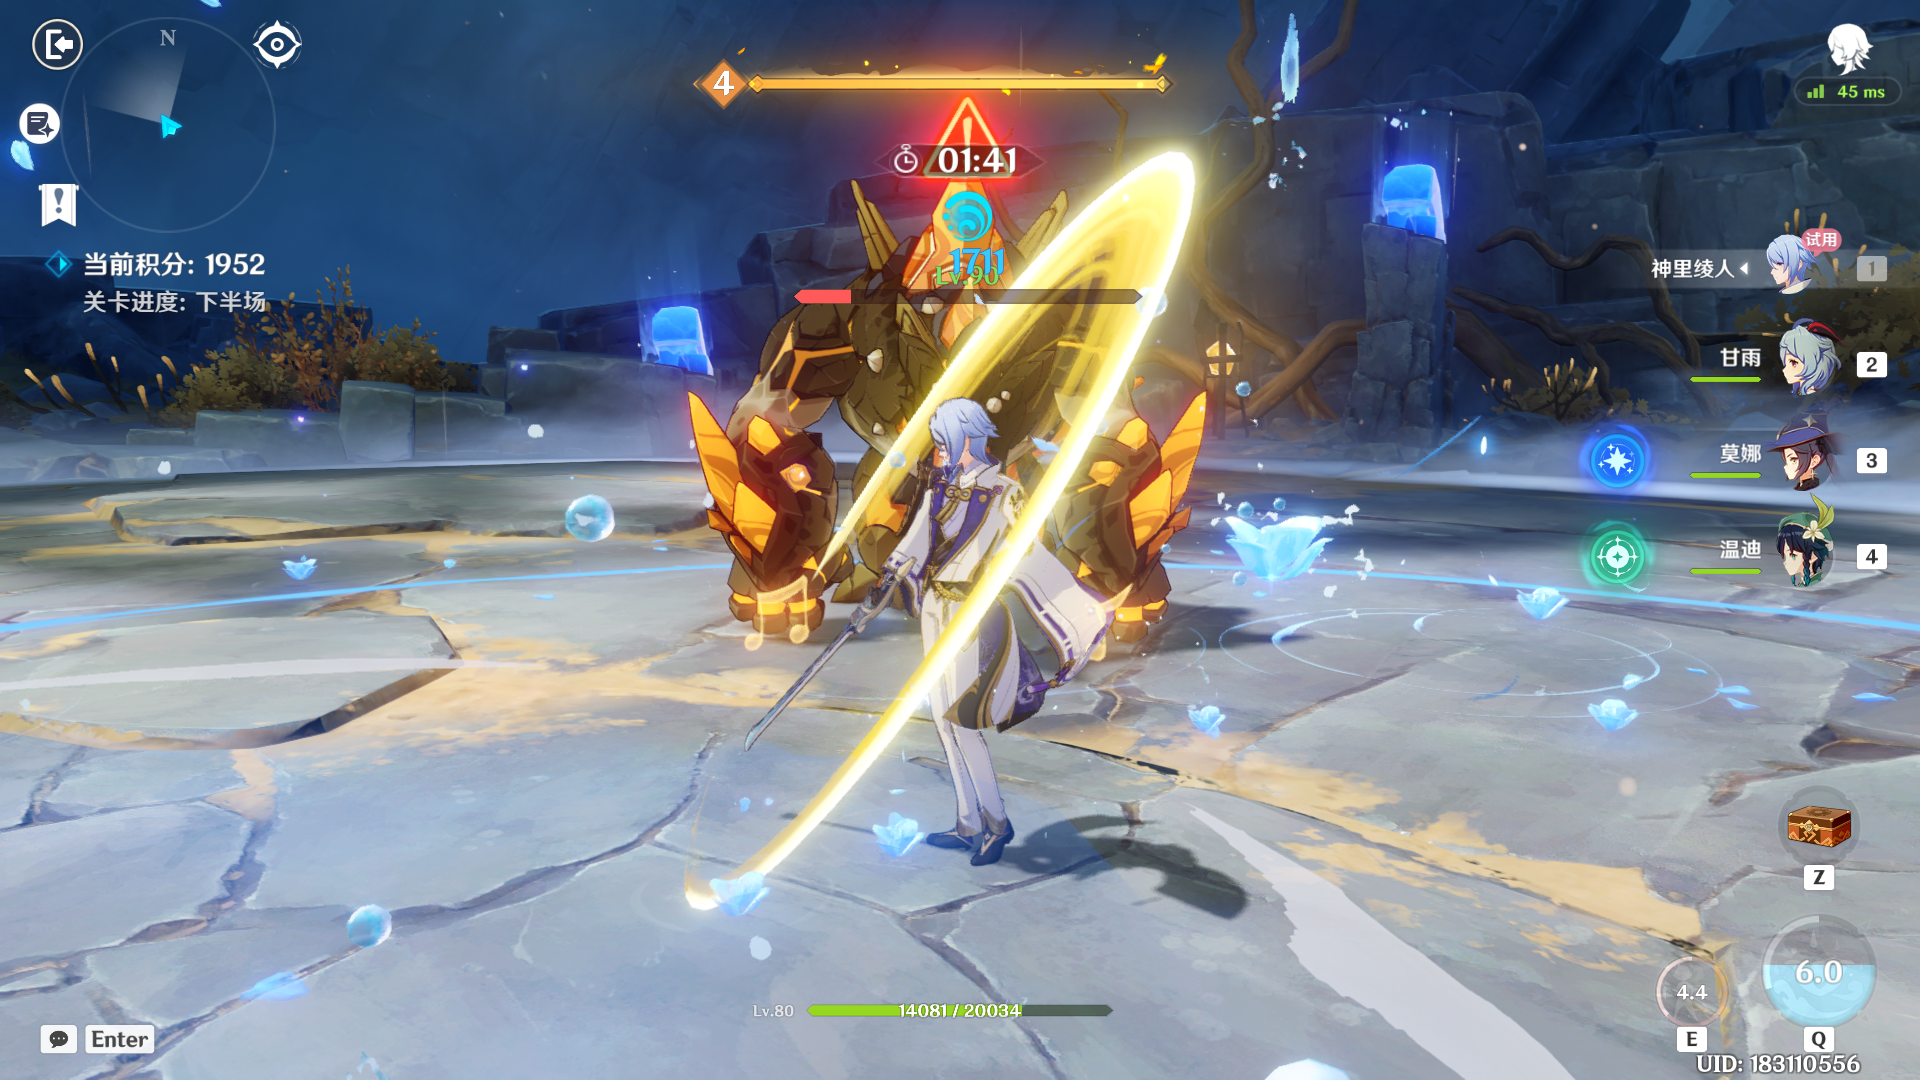character: (816, 396, 1098, 930)
